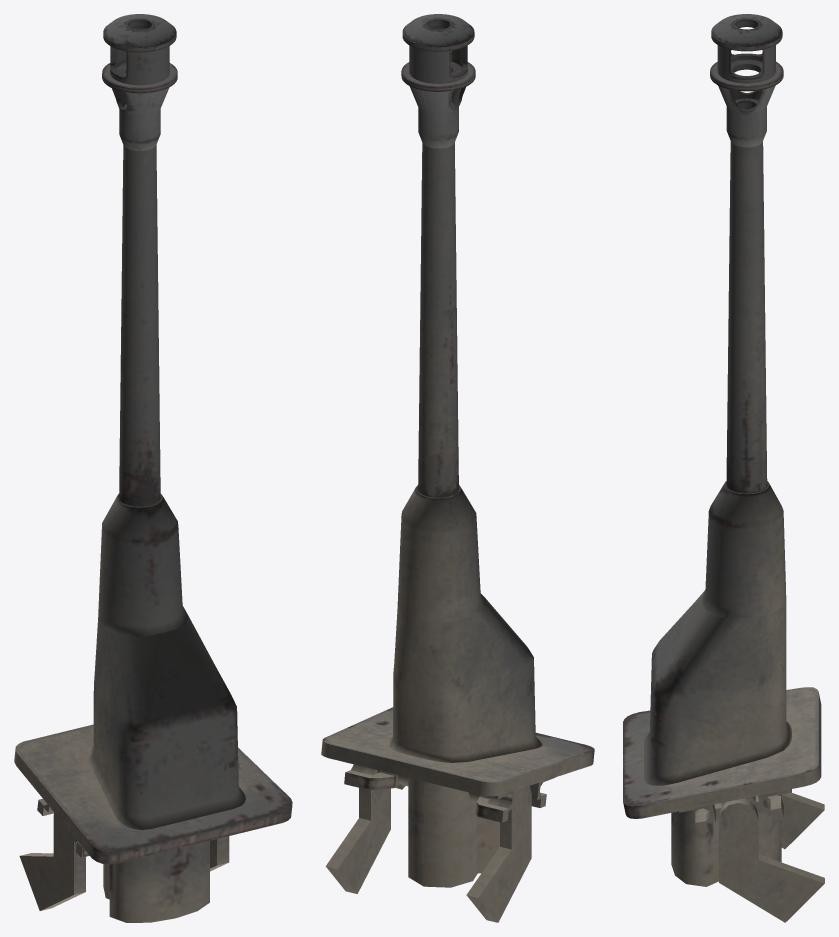
File: Gun_04.glb
The picture shows the model from 3 angles, left to right: view 1: azimuth 30°, elevation 25°; view 2: azimuth 150°, elevation 25°; view 3: azimuth 270°, elevation 25°; orthographic projection. The views are drawn at different scales.
Visible parts, largest first — view 1: set_0_group_0; view 2: set_0_group_0; view 3: set_0_group_0.
Boxes of the visible parts, x1,y1,x2,y2 form: set_0_group_0: [14, 14, 292, 922]; set_0_group_0: [321, 14, 594, 922]; set_0_group_0: [623, 14, 824, 922].
Size of the model in its own units: 0.8166 by 3.5 by 0.7431.
Materials: 1 (1 with a texture image).
